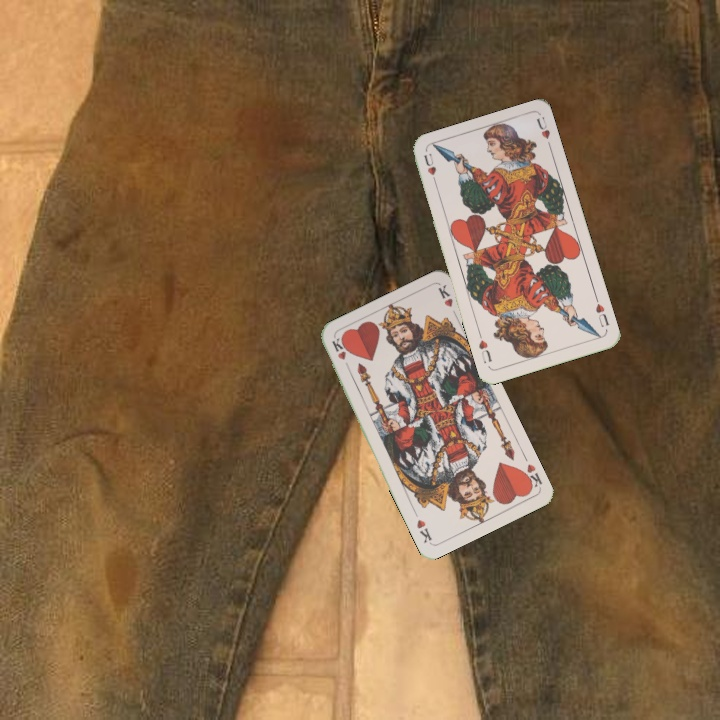HK: (327, 334, 353, 374), (517, 460, 545, 492)
HU: (419, 149, 439, 188), (591, 299, 612, 330)
